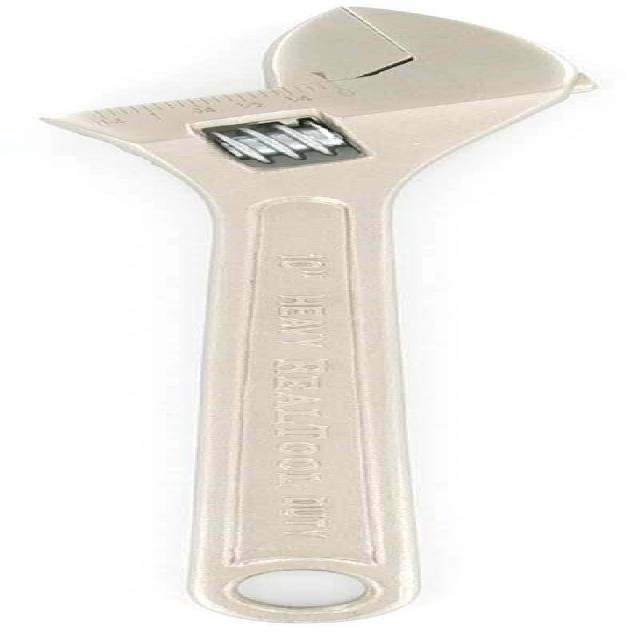wrench: (39, 0, 622, 628)
